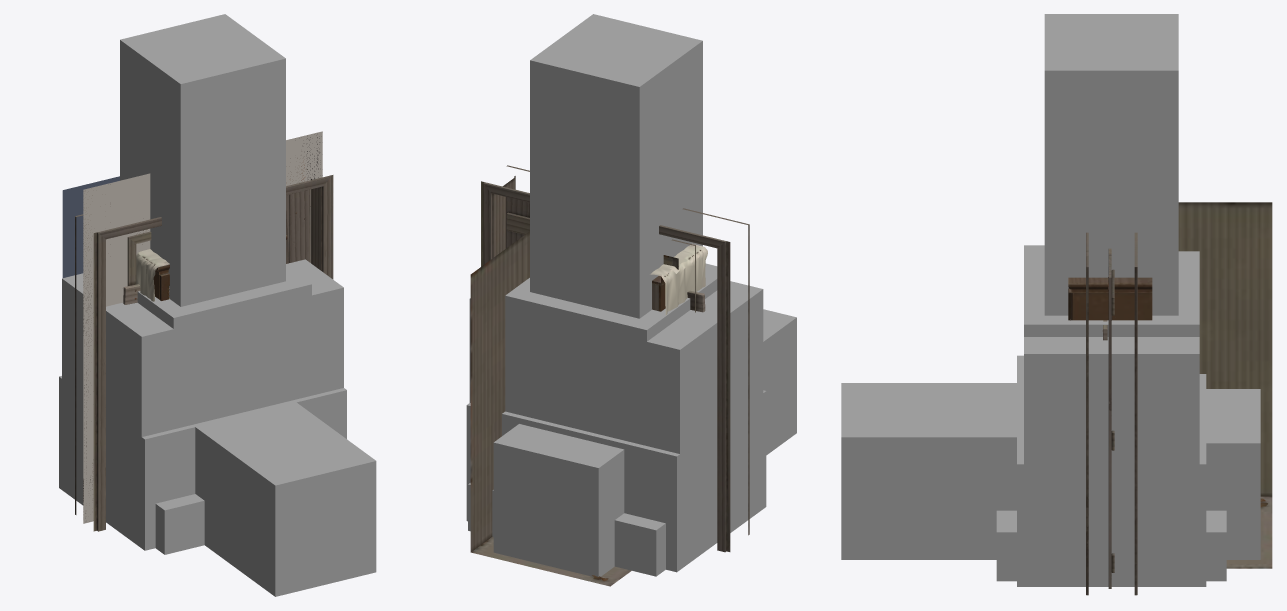
The model's file is attic.glb.
3 renders of one model, left to right at view 1: azimuth 30°, elevation 25°; view 2: azimuth 150°, elevation 25°; view 3: azimuth 270°, elevation 25°, orthographic. The views are drawn at different scales.
Visible parts, largest first — view 1: Col_chimney_breast_H400, Solid_iron_bed_sheeted, Isl_sheeted_armoire, Isl_sheeted_sofa, Isl_servant_bed, Door_closed_attic, Door_frame_attic, Isl_dress_forms, Win_oculus, Isl_trunk_pile, Isl_toy_circle, Solid_sheet_sofa (+7 smaller); view 2: Col_chimney_breast_H400, Isl_sheeted_sofa, Solid_sheet_sofa, Exit_attic_p0, Isl_sheeted_armoire, Isl_servant_bed, Door_frame_attic, Isl_trunk_pile, Solid_iron_bed_sheeted, Isl_toy_circle, Ward_body_attic, Isl_dress_forms (+1 smaller); view 3: Isl_sheeted_sofa, Col_chimney_breast_H400, Solid_iron_bed_sheeted, Isl_servant_bed, Exit_attic_p0, Solid_sheet_sofa, Isl_sheeted_armoire, Ward_body_attic, Isl_toy_circle, Door_frame_attic, Door_leaf_attic.
Part boxes in pixels (box(x1,y1,x2,y2)): Col_chimney_breast_H400: box(120, 14, 285, 306); Solid_iron_bed_sheeted: box(195, 402, 376, 596); Isl_sheeted_armoire: box(137, 265, 311, 428); Isl_sheeted_sofa: box(62, 259, 343, 541); Isl_servant_bed: box(59, 376, 346, 550); Door_closed_attic: box(83, 131, 322, 523); Door_frame_attic: box(75, 175, 333, 531); Isl_dress_forms: box(157, 319, 327, 432); Win_oculus: box(83, 132, 322, 522); Isl_trunk_pile: box(156, 357, 333, 416); Isl_toy_circle: box(155, 494, 204, 554); Solid_sheet_sofa: box(195, 433, 219, 555); Col_chimney_breast_H400: box(530, 14, 702, 318); Isl_sheeted_sofa: box(469, 281, 763, 569); Solid_sheet_sofa: box(493, 424, 624, 576); Exit_attic_p0: box(470, 231, 695, 586); Isl_sheeted_armoire: box(505, 263, 717, 441); Isl_servant_bed: box(466, 390, 766, 572); Door_frame_attic: box(481, 165, 749, 552); Isl_trunk_pile: box(505, 377, 668, 451); Solid_iron_bed_sheeted: box(763, 309, 796, 455); Isl_toy_circle: box(468, 483, 665, 576); Ward_body_attic: box(650, 243, 707, 315); Isl_dress_forms: box(523, 342, 663, 414); Isl_sheeted_sofa: box(1024, 245, 1199, 586); Col_chimney_breast_H400: box(1044, 14, 1178, 315); Solid_iron_bed_sheeted: box(841, 383, 1023, 559); Isl_servant_bed: box(1017, 355, 1206, 586); Exit_attic_p0: box(1111, 202, 1272, 568); Solid_sheet_sofa: box(963, 389, 1260, 559); Isl_sheeted_armoire: box(1024, 250, 1199, 336); Ward_body_attic: box(1068, 277, 1152, 320); Isl_toy_circle: box(996, 510, 1226, 581); Door_frame_attic: box(1086, 232, 1137, 595); Door_leaf_attic: box(1108, 248, 1114, 588).
Bounding box in the file's own units: 2.25 × 4.23 × 3.19.
18 materials, 13 textured.
